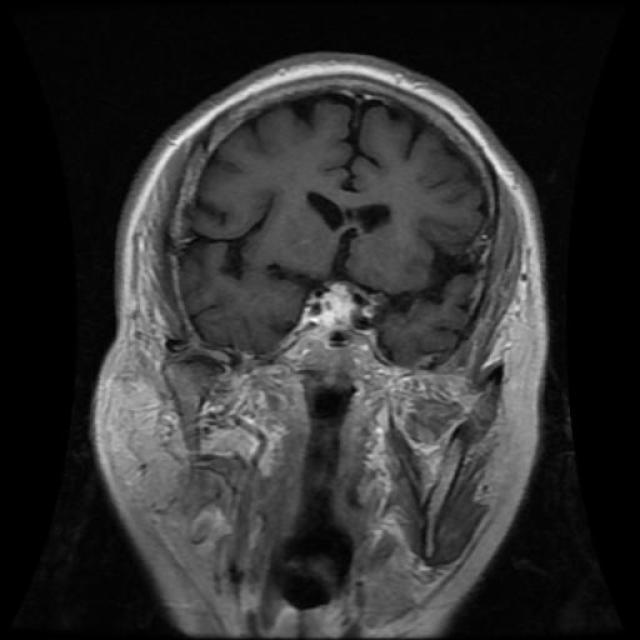pituitary: (279, 270, 384, 366)
